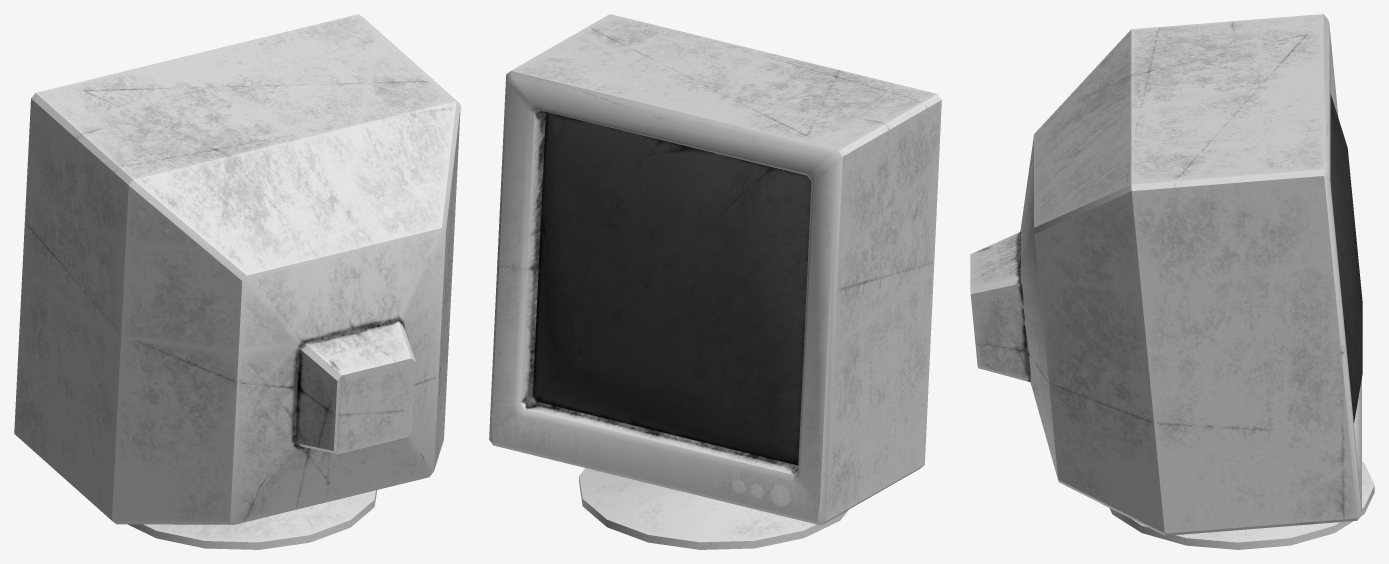
The model's file is Pc_Monitor_AA.fbx.
The picture shows the model from 3 angles, left to right: view 1: azimuth 30°, elevation 25°; view 2: azimuth 150°, elevation 25°; view 3: azimuth 270°, elevation 25°; orthographic projection. The views are drawn at different scales.
Parts seen in each view (by area): view 1: Pc_Monitor_AA; view 2: Pc_Monitor_AA; view 3: Pc_Monitor_AA.
Boxes of the visible parts, x1,y1,x2,y2 form: Pc_Monitor_AA: (14,14,460,549); Pc_Monitor_AA: (489,14,941,549); Pc_Monitor_AA: (970,14,1374,549).
Size of the model in its own units: 0.4051 by 0.4341 by 0.4743.
Materials: 1 (1 with a texture image).
